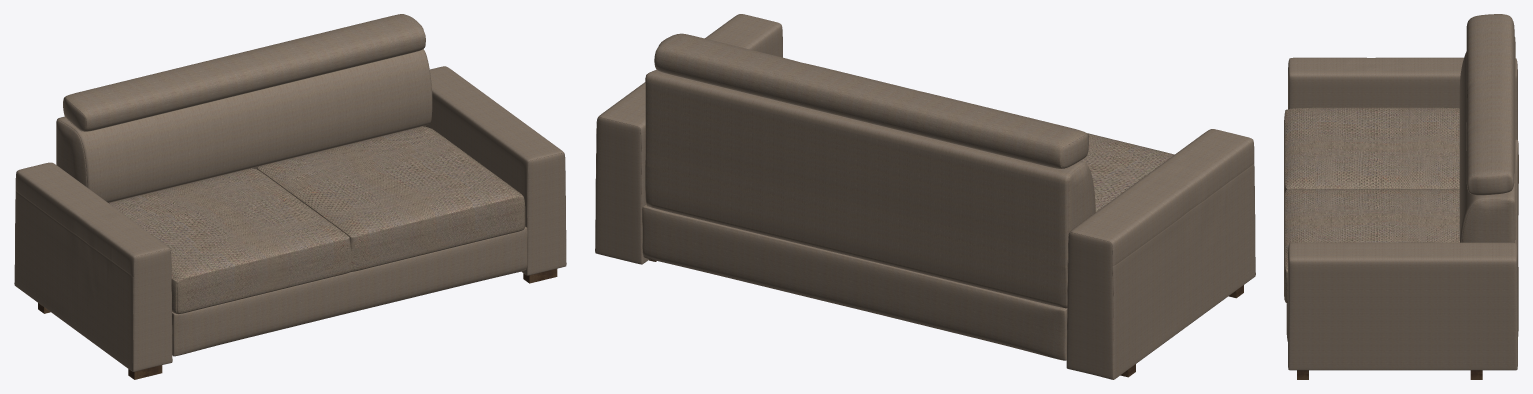
Rendered from Tapicerk_i_krzesla_milton_2_osobowy.obj.
3 views of the same model, side by side, from view 1: azimuth 30°, elevation 25°; view 2: azimuth 150°, elevation 25°; view 3: azimuth 270°, elevation 25° (orthographic). The views are drawn at different scales.
Parts seen in each view (by area): view 1: Box002, Line002, Box003, Box039, Box038, Box040; view 2: Line002, Box003, Box038, Box039, Box040, Box002; view 3: Box040, Box002, Box003, Box039, Line002, Box038.
Boxes of the visible parts, x1,y1,x2,y2 form: Box002: (109, 126, 525, 314); Line002: (56, 49, 432, 202); Box003: (14, 162, 172, 371); Box039: (63, 14, 425, 131); Box038: (172, 226, 527, 356); Box040: (423, 66, 566, 275); Line002: (645, 69, 1095, 308); Box003: (1066, 129, 1255, 379); Box038: (642, 204, 1067, 360); Box039: (654, 33, 1088, 168); Box040: (595, 14, 782, 264); Box002: (1081, 133, 1174, 211); Box040: (1288, 242, 1517, 370); Box002: (1284, 107, 1459, 303); Box003: (1288, 57, 1517, 139); Box039: (1466, 14, 1514, 195); Line002: (1459, 37, 1515, 242); Box038: (1286, 139, 1518, 341).
Size of the model in its own units: 191 by 82.35 by 93.18.
